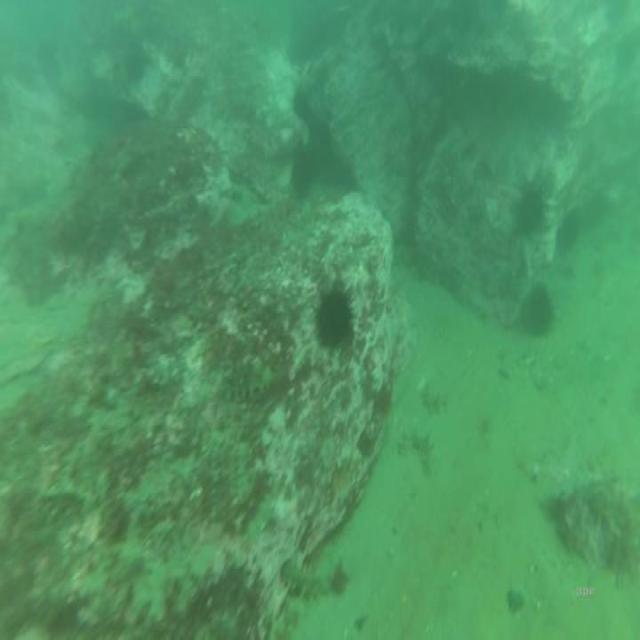echinus: (307, 272, 363, 356), (504, 171, 551, 248), (524, 276, 554, 343), (290, 141, 316, 207), (290, 74, 314, 134), (552, 207, 581, 254)
holothurian: (279, 556, 334, 607)
